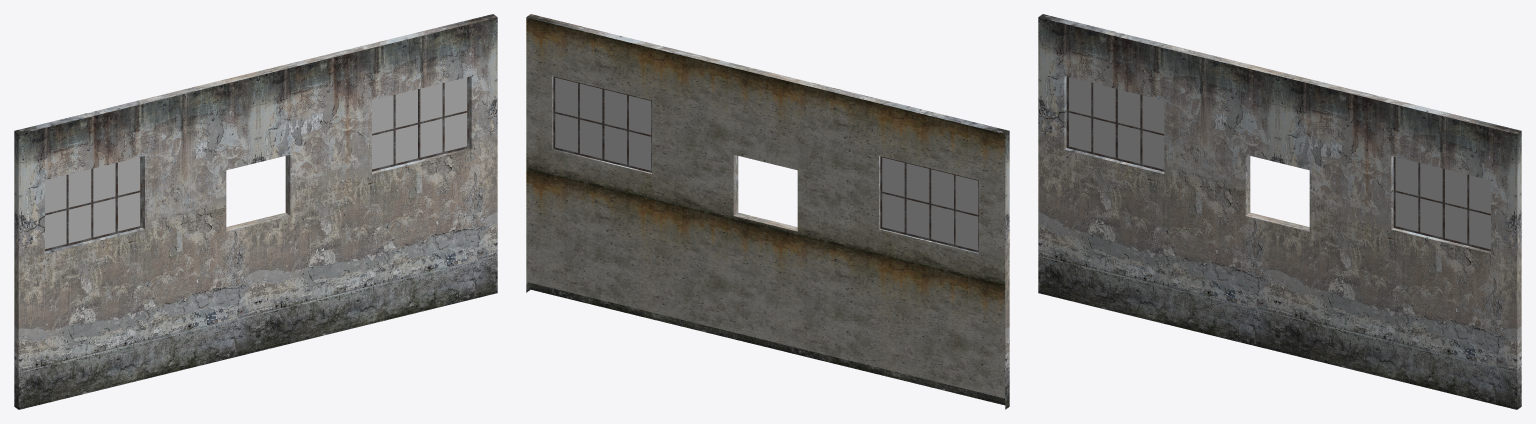
The model's file is Factory1Wall04.FBX.
3 renders of one model, left to right at view 1: azimuth 30°, elevation 25°; view 2: azimuth 150°, elevation 25°; view 3: azimuth 330°, elevation 25°, orthographic.
Visible parts, largest first — view 1: Factory1Wall04, Factory1Wall04Glass; view 2: Factory1Wall04, Factory1Wall04Glass; view 3: Factory1Wall04, Factory1Wall04Glass.
Boxes of the visible parts, x1=… form: Factory1Wall04: x1=14, y1=14, x2=497, y2=409; Factory1Wall04Glass: x1=45, y1=77, x2=467, y2=248; Factory1Wall04: x1=526, y1=14, x2=1009, y2=409; Factory1Wall04Glass: x1=555, y1=77, x2=978, y2=250; Factory1Wall04: x1=1038, y1=14, x2=1521, y2=409; Factory1Wall04Glass: x1=1069, y1=77, x2=1490, y2=249.
Bounding box in the file's own units: 1800 × 990 × 30.
